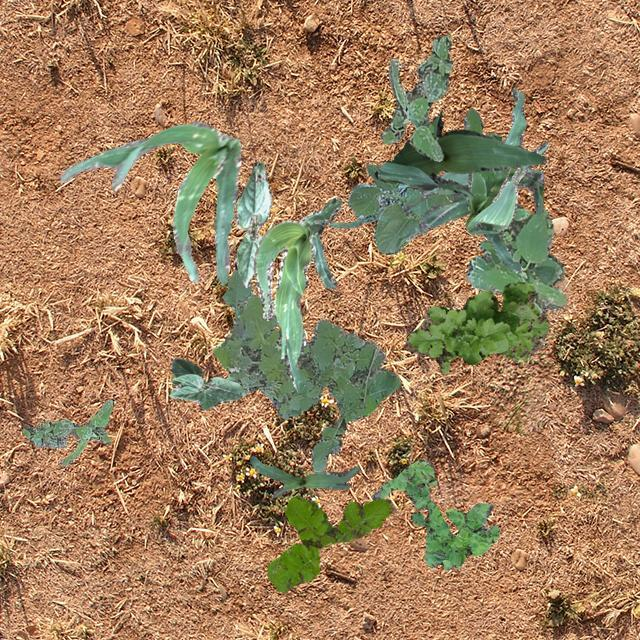crop: (59, 120, 240, 284), (252, 197, 340, 390), (463, 88, 548, 272), (374, 112, 546, 195), (347, 162, 452, 254), (402, 164, 542, 232), (248, 454, 358, 498), (234, 160, 270, 286), (168, 358, 244, 408), (328, 212, 378, 228)
weed: (212, 268, 398, 472), (371, 458, 498, 568), (404, 280, 548, 372), (266, 494, 394, 592), (466, 203, 566, 314), (379, 34, 452, 160), (22, 400, 112, 466), (462, 108, 500, 180)
